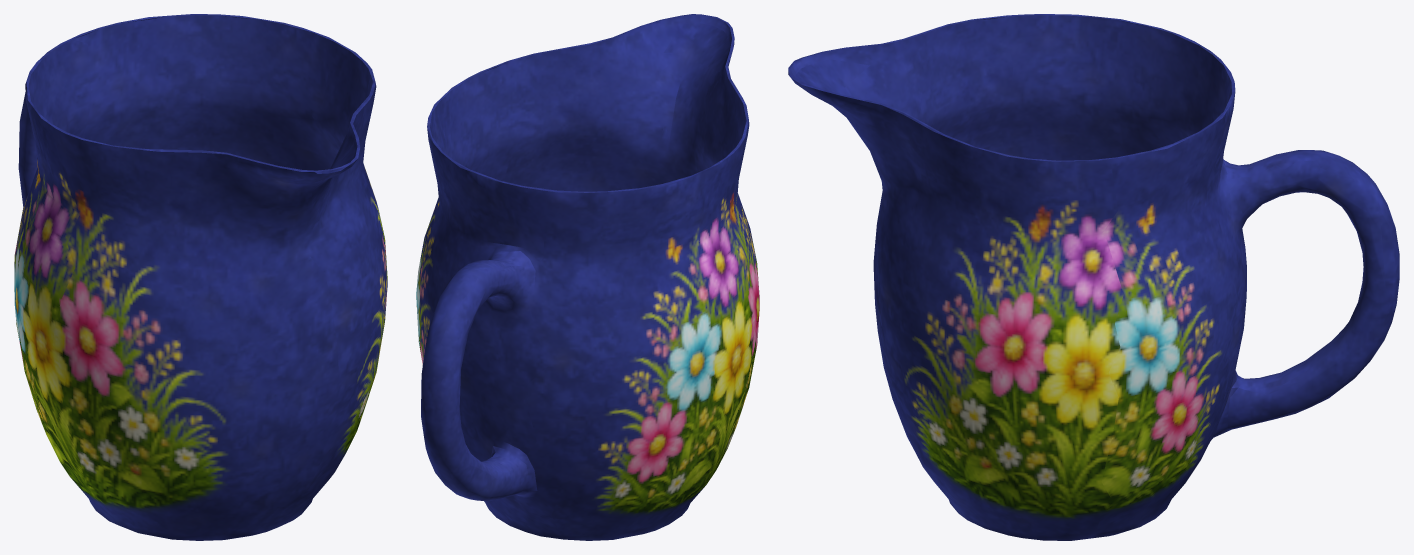
The model's file is kitchenware_jug_a01.glb.
3 renders of one model, left to right at view 1: azimuth 30°, elevation 25°; view 2: azimuth 150°, elevation 25°; view 3: azimuth 270°, elevation 25°, orthographic. The views are drawn at different scales.
Visible parts, largest first — view 1: kitchenware_jug_a01_lod1; view 2: kitchenware_jug_a01_lod1; view 3: kitchenware_jug_a01_lod1.
Boxes of the visible parts, bbox=[...] form: kitchenware_jug_a01_lod1: bbox=[14, 14, 387, 540]; kitchenware_jug_a01_lod1: bbox=[416, 14, 759, 540]; kitchenware_jug_a01_lod1: bbox=[788, 14, 1399, 540].
Size of the model in its own units: 0.1004 by 0.1259 by 0.1644.
Materials: 1 (1 with a texture image).
